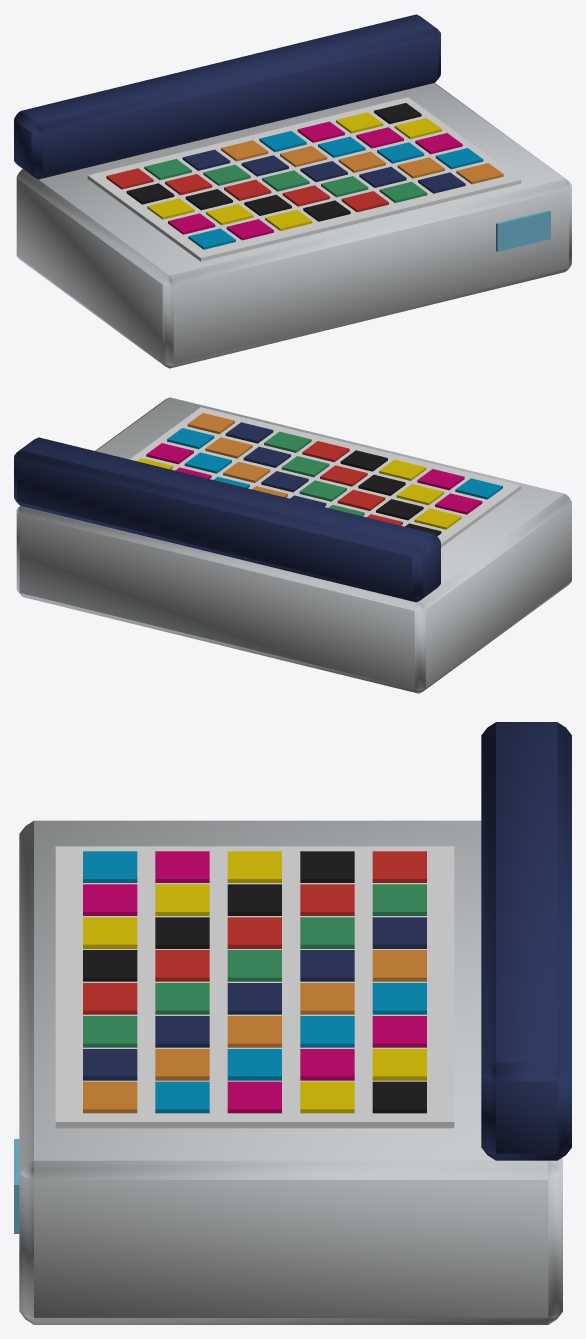
The model's file is m_spectro.glb.
The picture shows the model from 3 angles, top to bottom: view 1: azimuth 30°, elevation 25°; view 2: azimuth 150°, elevation 25°; view 3: azimuth 270°, elevation 25°; orthographic projection. The views are drawn at different scales.
Parts seen in each view (by area): view 1: m_spectro; view 2: m_spectro; view 3: m_spectro.
Part boxes in pixels (x1,y1,x2,y2): m_spectro: (14, 14, 571, 368); m_spectro: (14, 397, 571, 693); m_spectro: (14, 722, 571, 1324).
Size of the model in its own units: 0.46 by 0.16 by 0.308.
